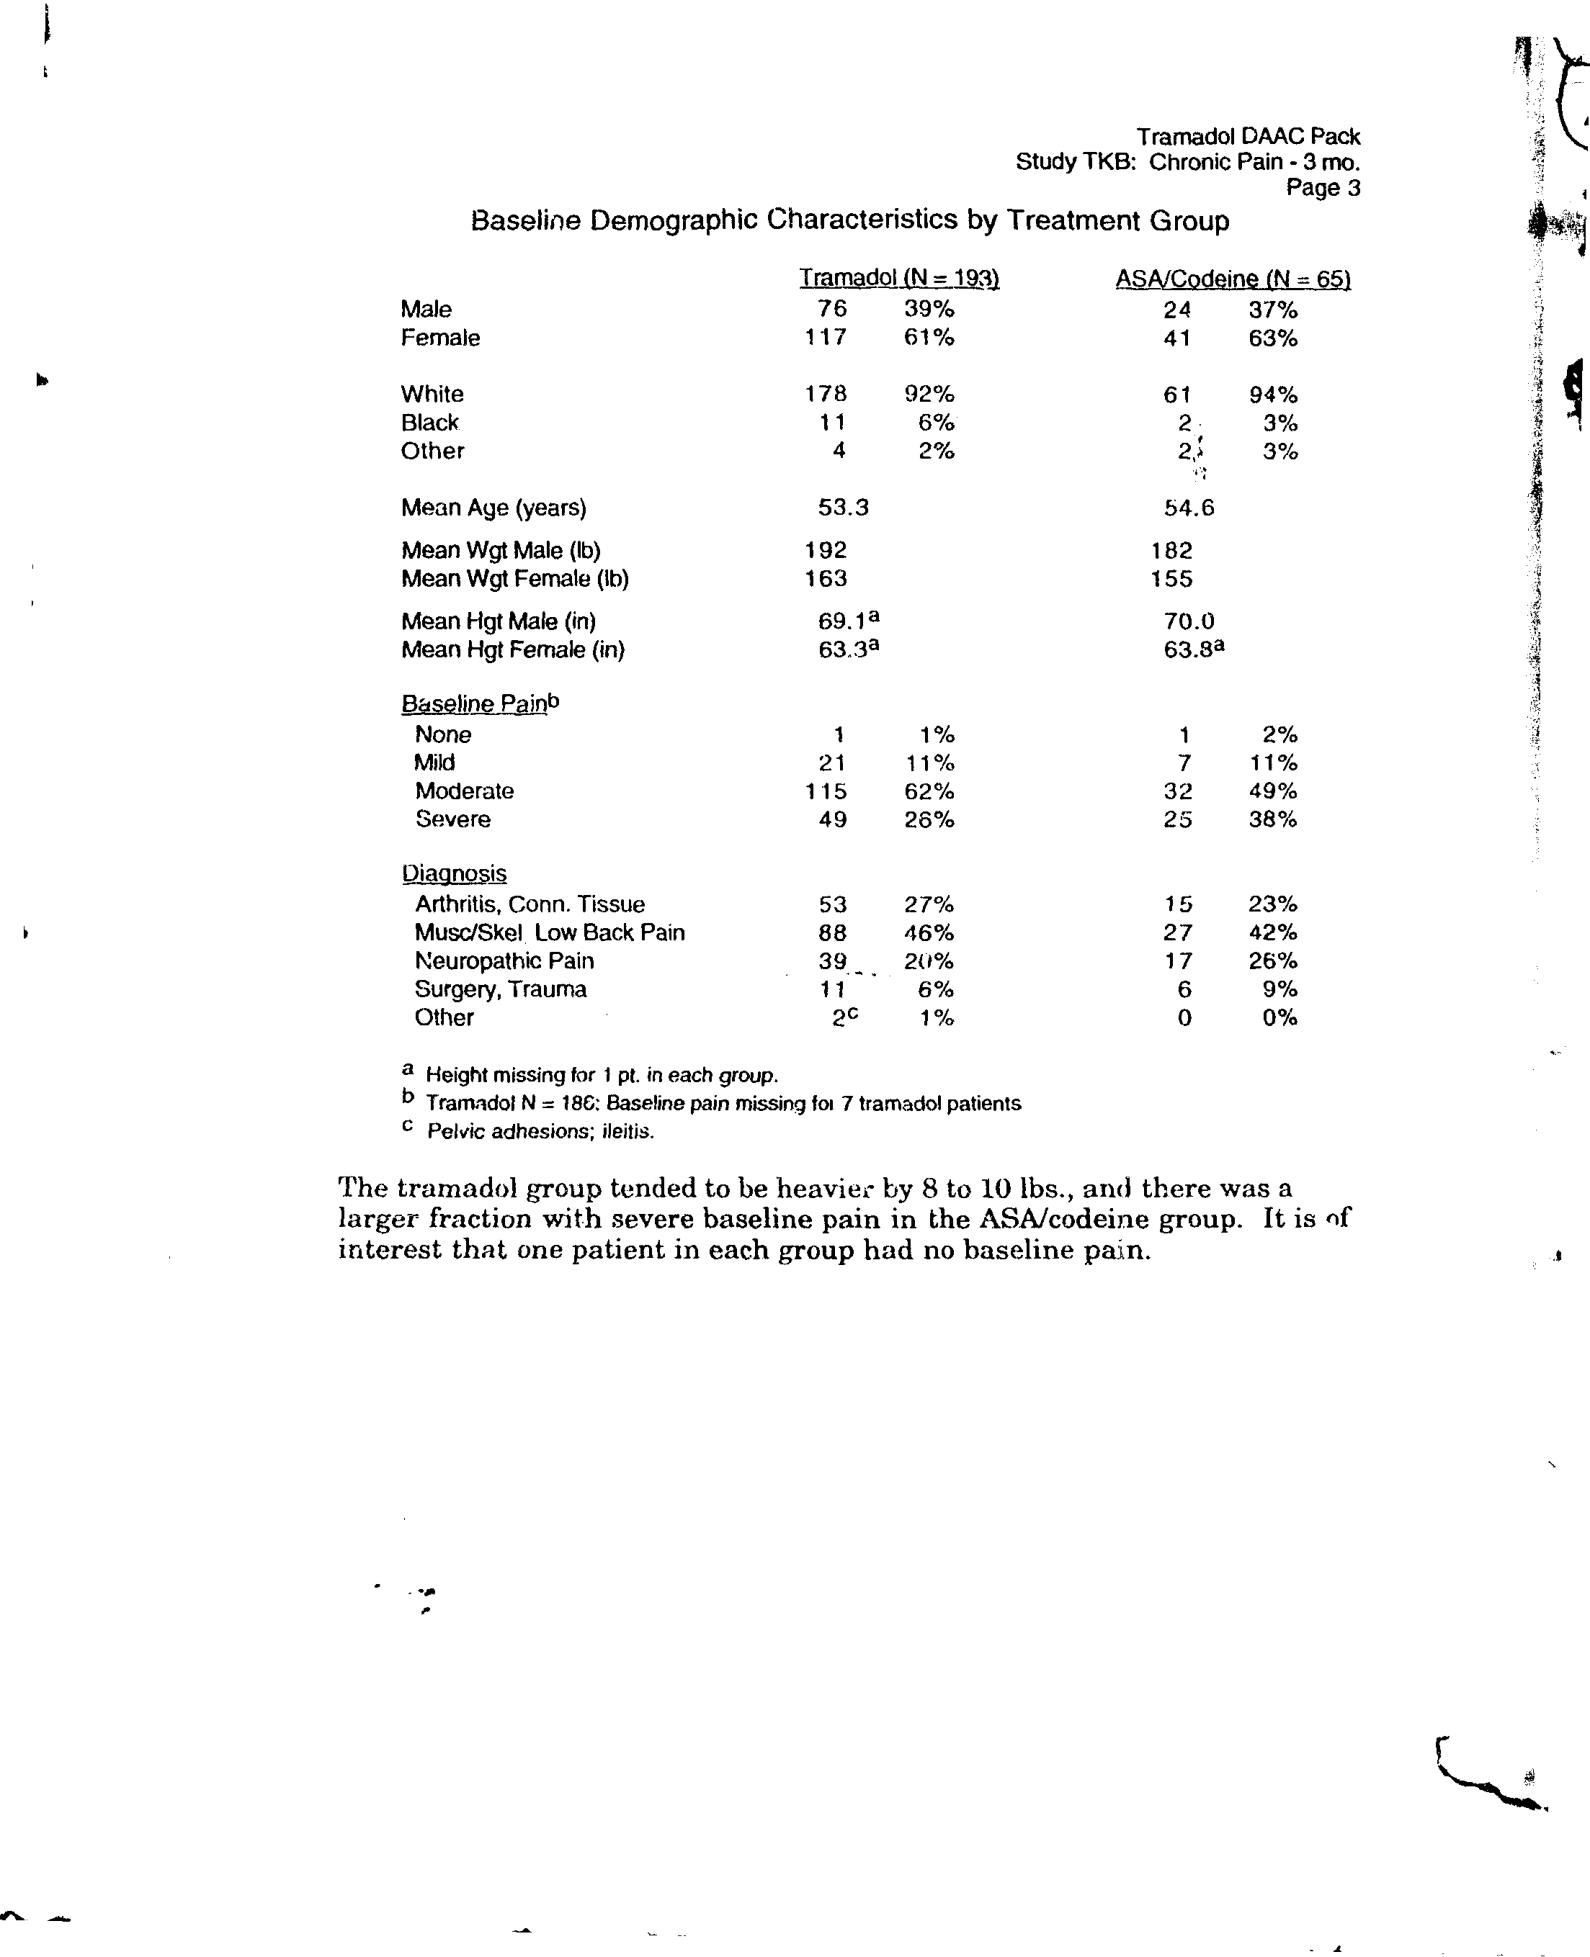nolines: (394, 260, 1356, 1035)
